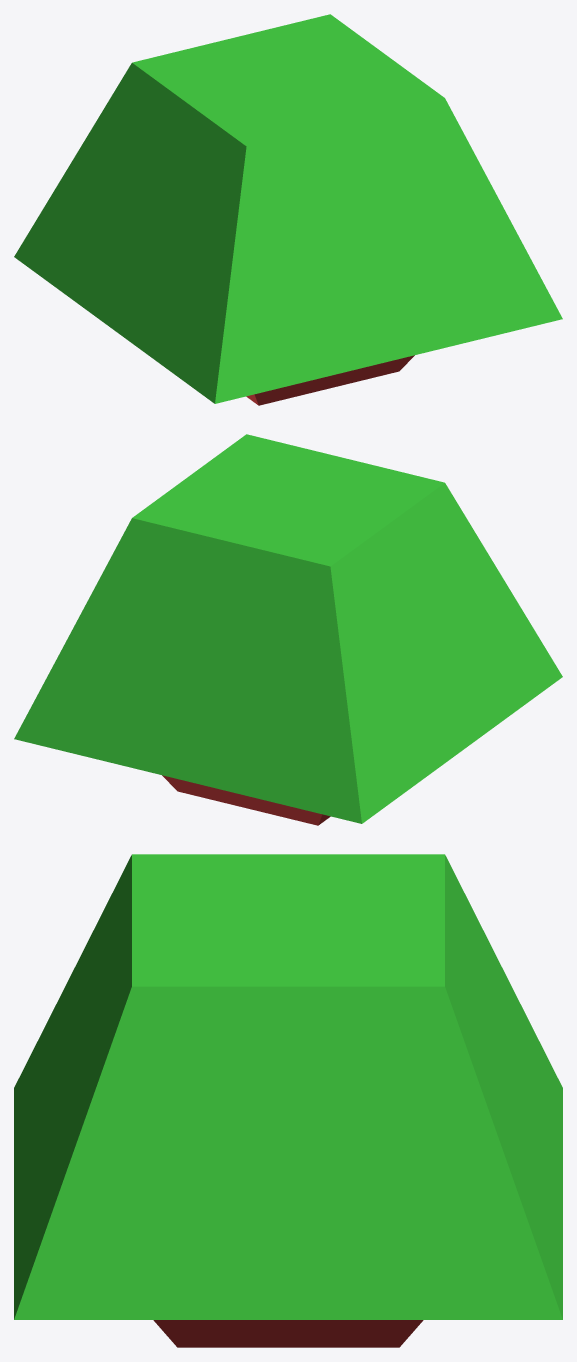
Rendered from LightNub.fbx.
3 views of the same model, one above another, from view 1: azimuth 30°, elevation 25°; view 2: azimuth 150°, elevation 25°; view 3: azimuth 270°, elevation 25° (orthographic). The views are drawn at different scales.
Visible parts, largest first — view 1: Cube; view 2: Cube; view 3: Cube.
Part boxes in pixels (bbox=[...]): Cube: bbox=[14, 14, 562, 405]; Cube: bbox=[14, 434, 562, 825]; Cube: bbox=[14, 854, 562, 1347].
Bounding box in the file's own units: 93.69 × 71.65 × 93.69.
